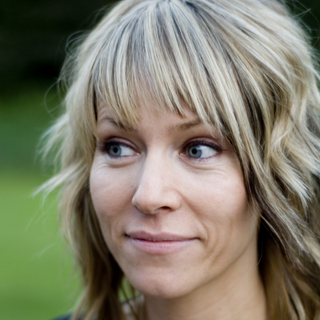eye: (172, 133, 226, 164), (97, 135, 145, 167)
